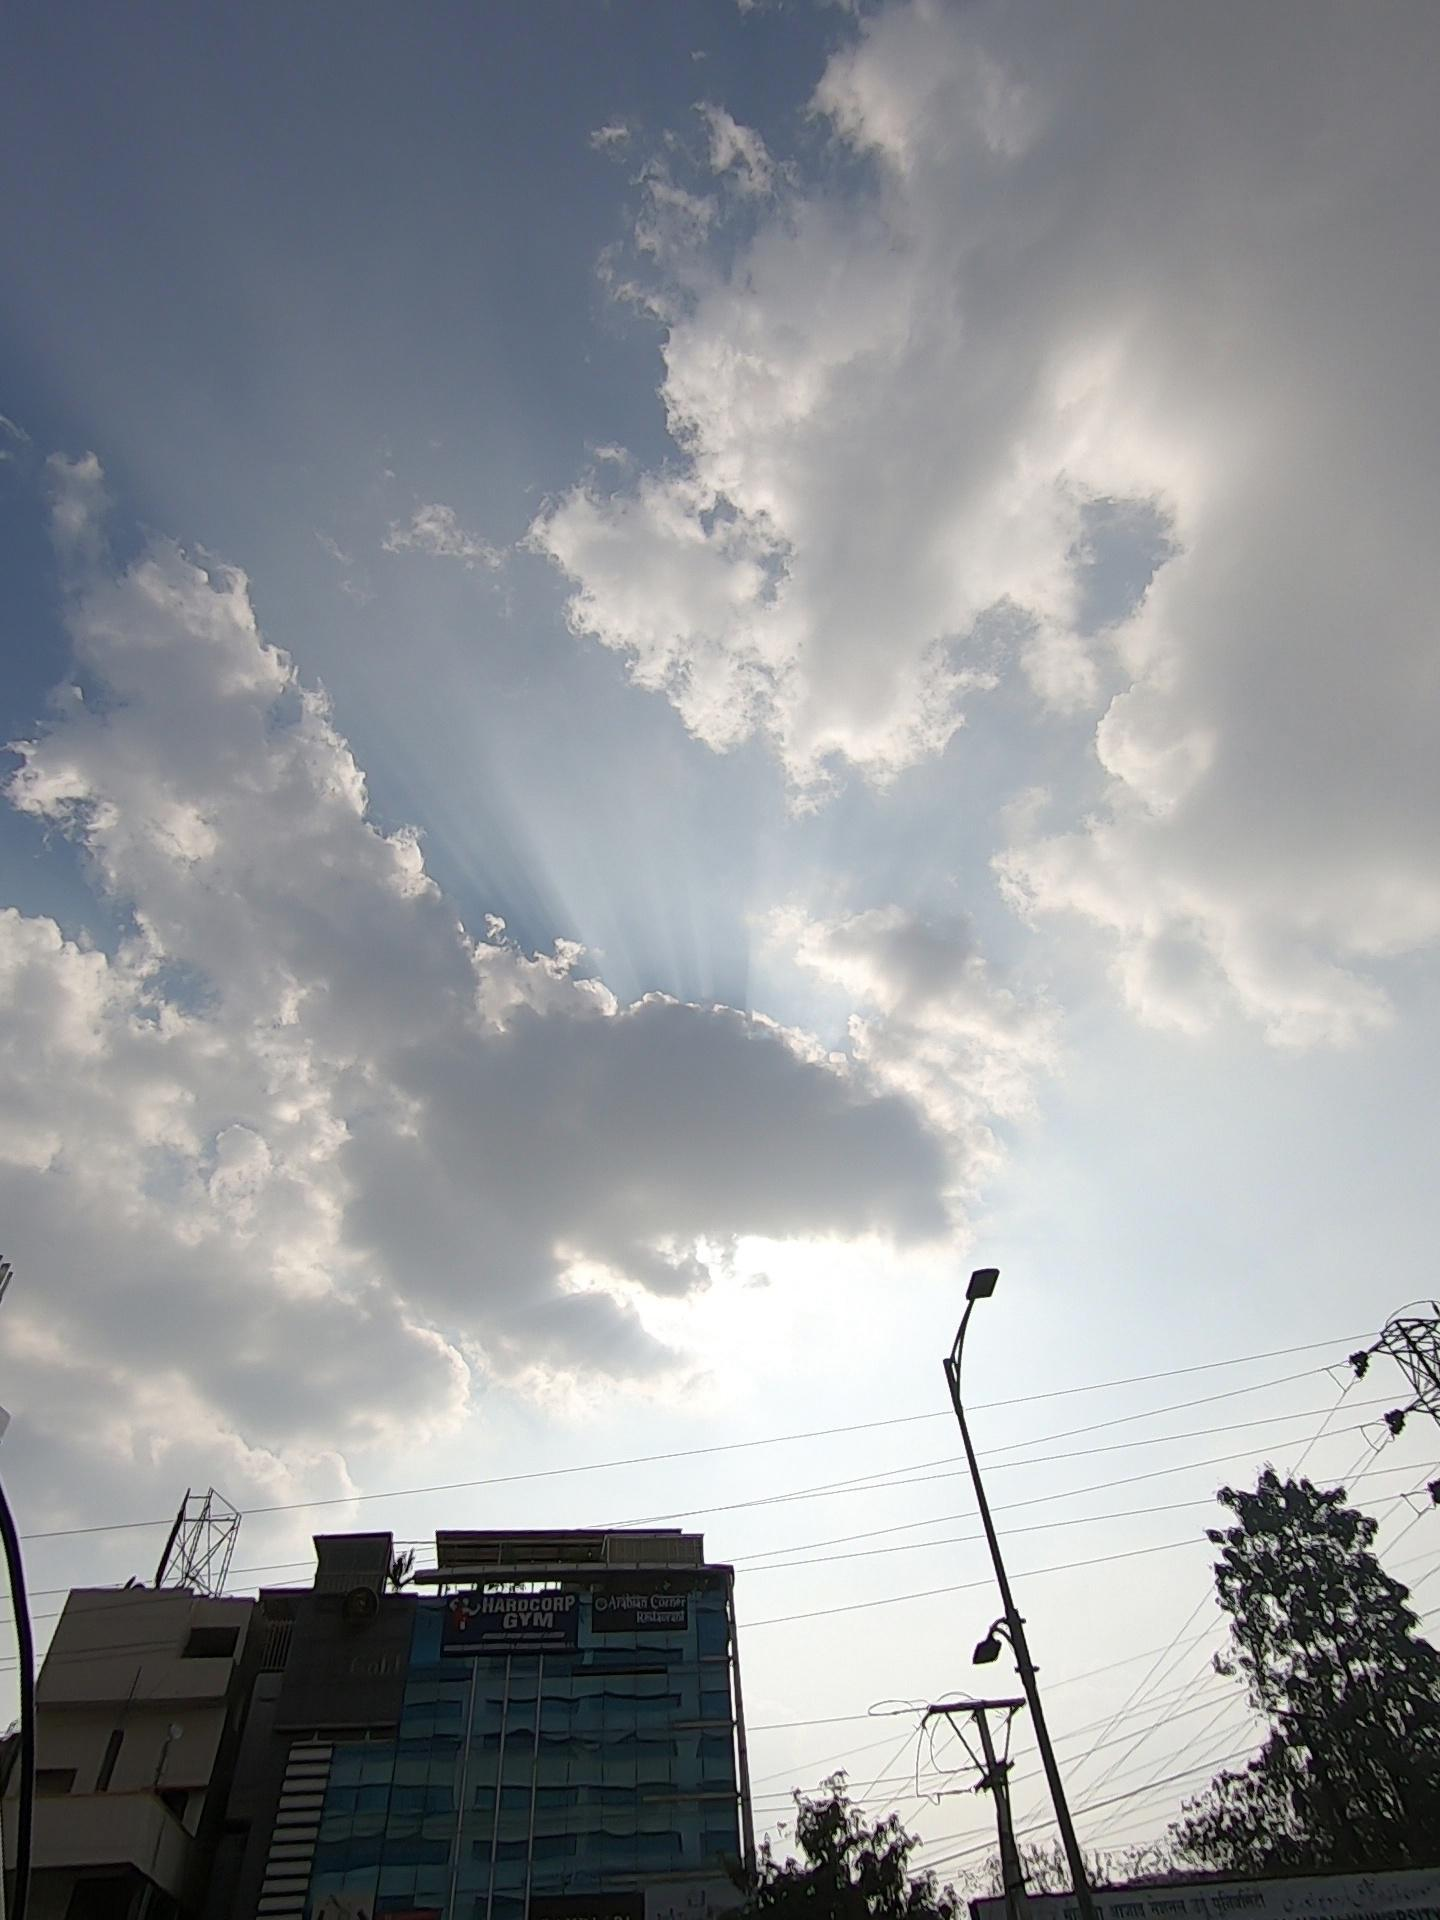off: (885, 1211, 1095, 1488)
